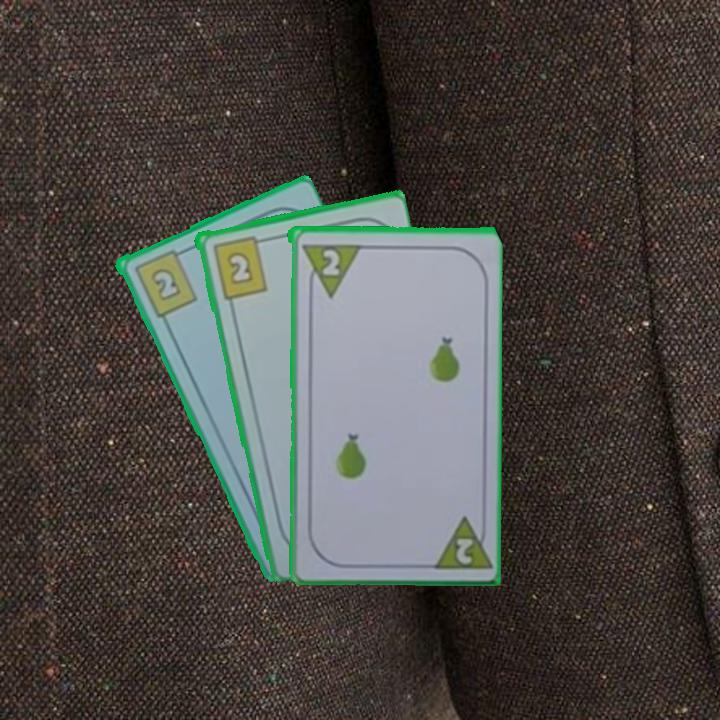2b: (130, 245, 200, 320), (208, 232, 270, 302)
2p: (316, 245, 342, 278), (452, 534, 475, 567)
